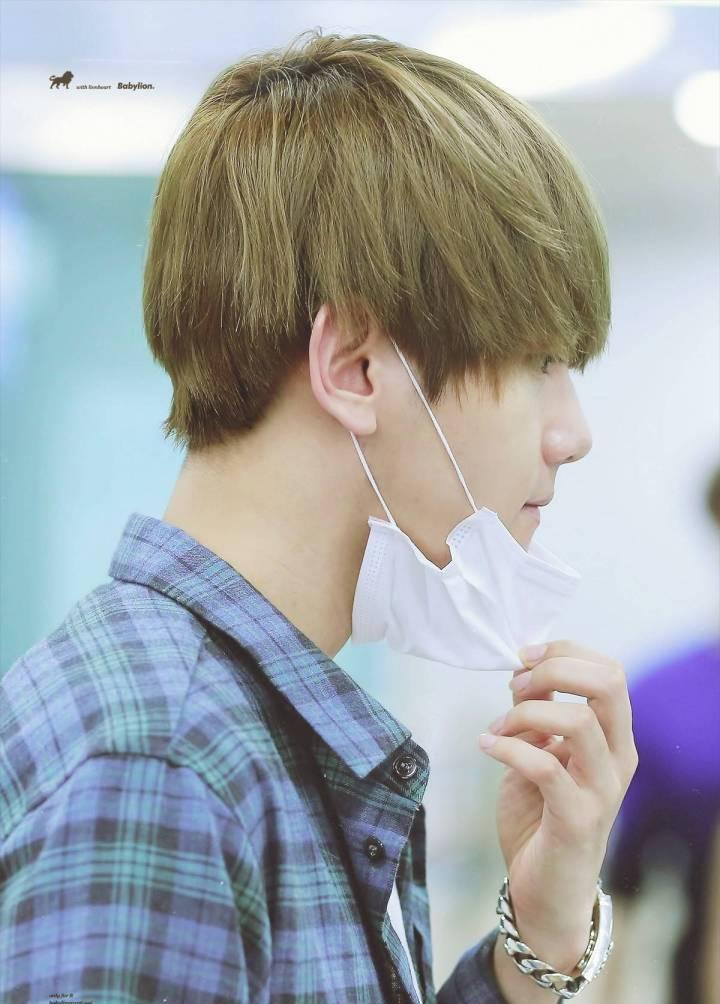WRONG: (288, 299, 632, 643)
